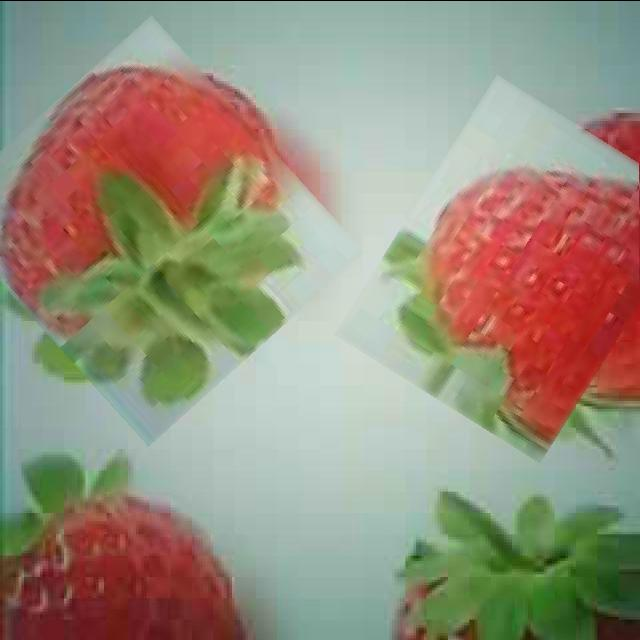strawberry: (0, 42, 329, 417), (365, 93, 640, 441)
